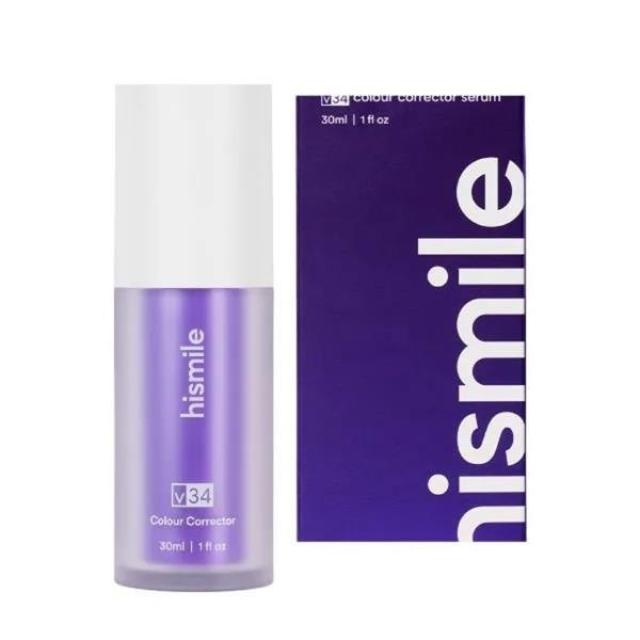cosmotic: (297, 91, 535, 544)
lotion-moisture: (115, 78, 278, 583)
